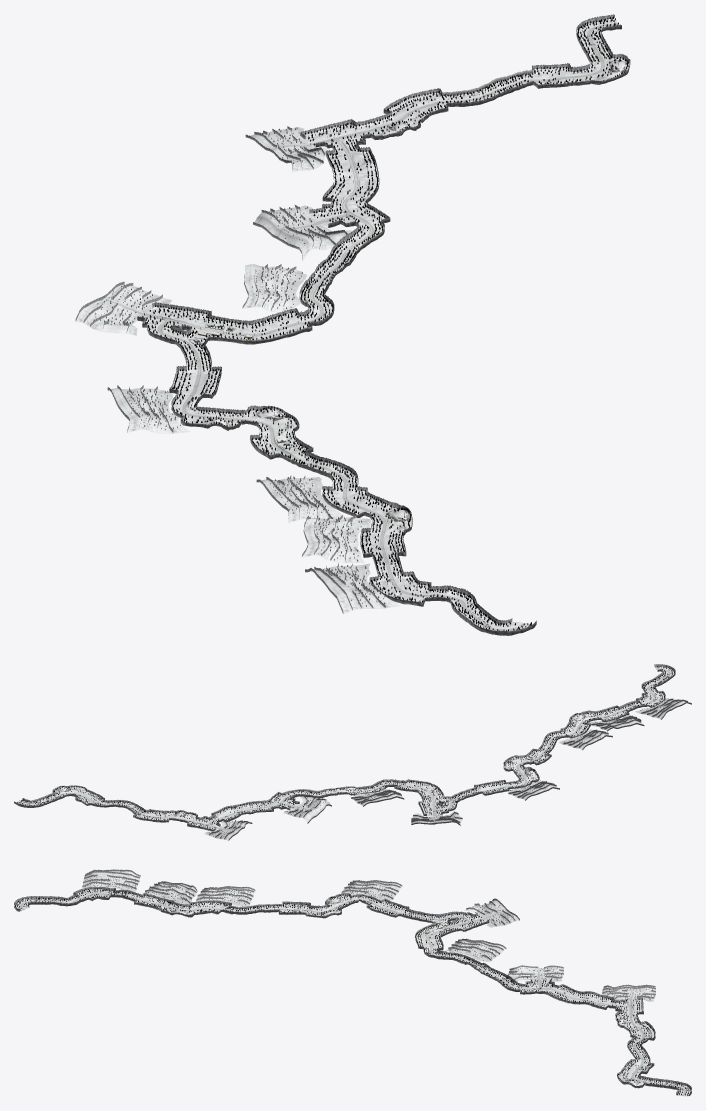
File: sweden_stage3_visual.glb
3 views of the same model, one above another, from view 1: azimuth 30°, elevation 25°; view 2: azimuth 150°, elevation 25°; view 3: azimuth 270°, elevation 25° (orthographic). The views are drawn at different scales.
Parts seen in each view (by area): view 1: Track_Road_And_Terrain, Foliage_And_Vegetation; view 2: Track_Road_And_Terrain, Foliage_And_Vegetation; view 3: Track_Road_And_Terrain, Foliage_And_Vegetation.
Part boxes in pixels (x1,y1,x2,y2): Track_Road_And_Terrain: [76, 14, 630, 635]; Foliage_And_Vegetation: [75, 16, 628, 631]; Track_Road_And_Terrain: [14, 664, 685, 840]; Foliage_And_Vegetation: [17, 666, 691, 840]; Track_Road_And_Terrain: [14, 871, 691, 1096]; Foliage_And_Vegetation: [14, 869, 690, 1095].
Bounding box in the file's own units: 2250 × 62.28 × 2913.
Materials: 64 (64 with a texture image).
